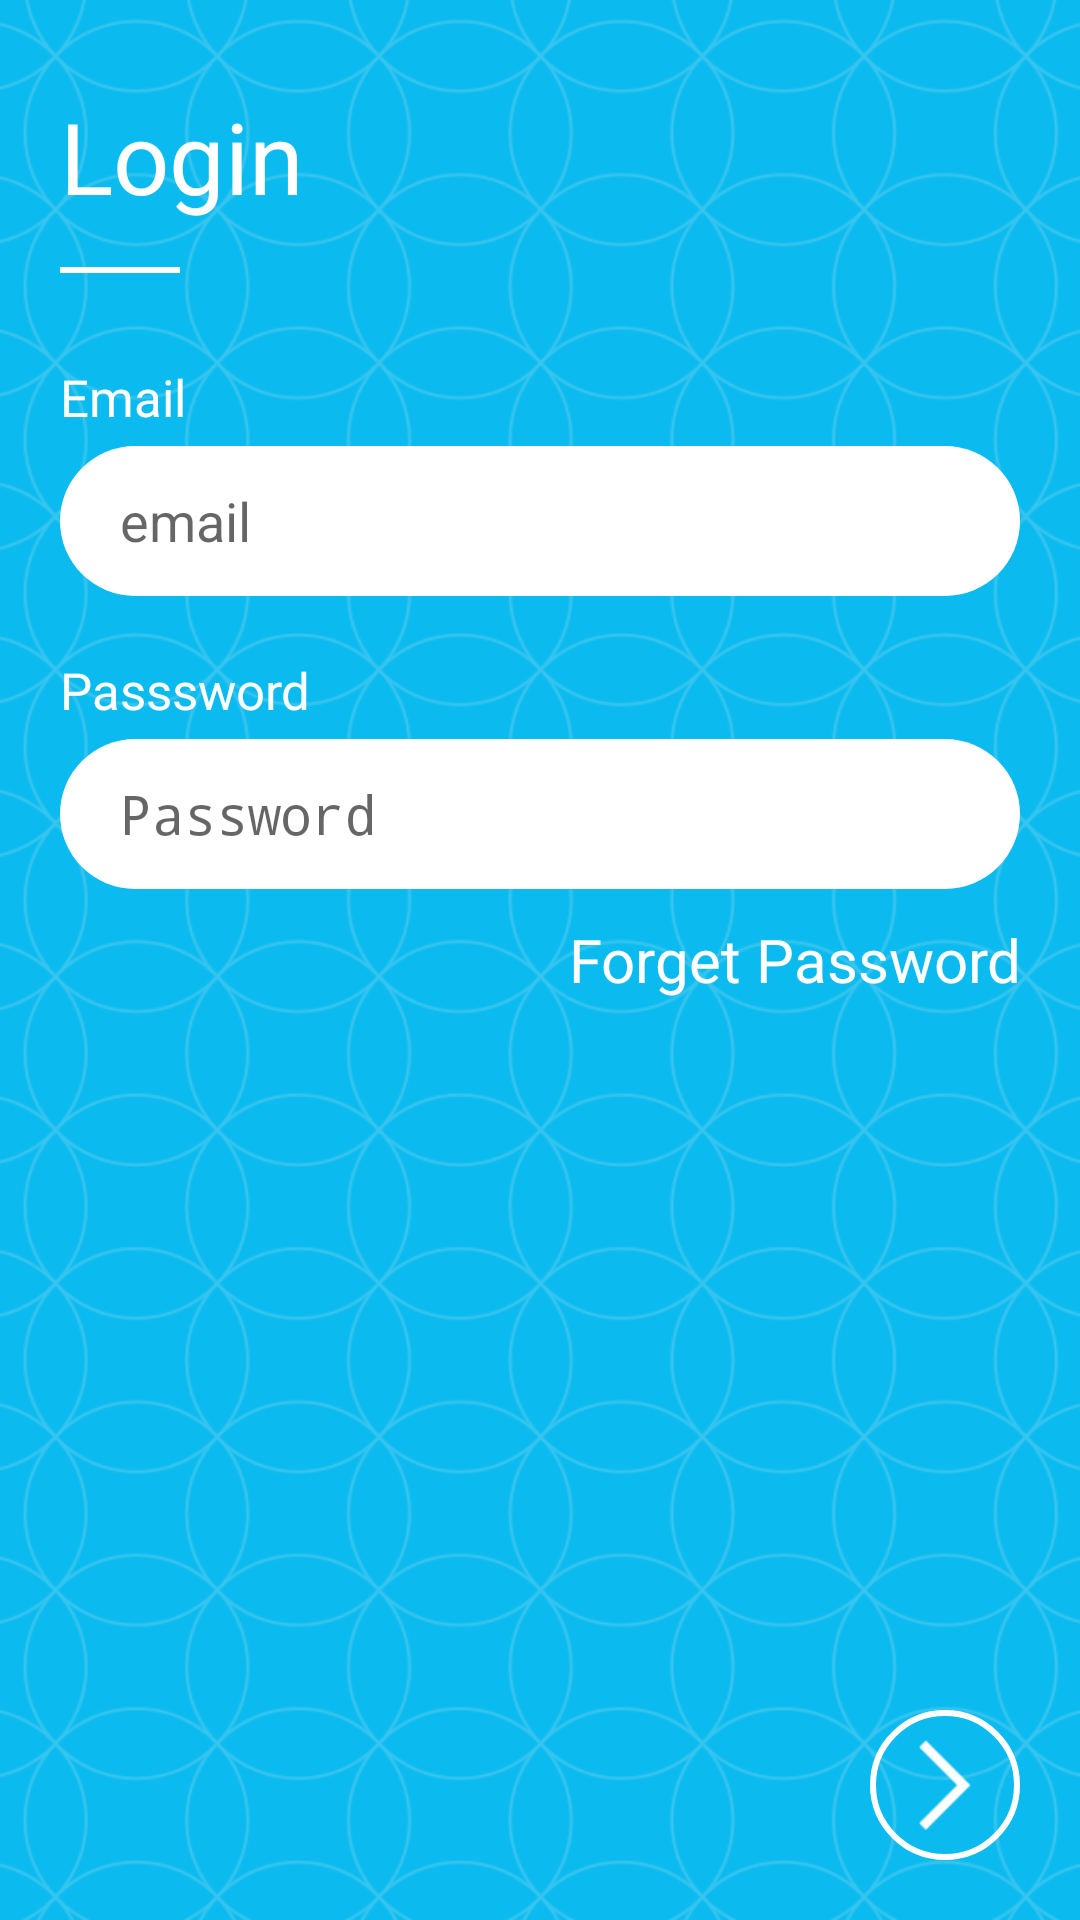

Where to tap for icons on this 1080px×1920px app screen, as (x,y):
arrow right: (945,1785)
